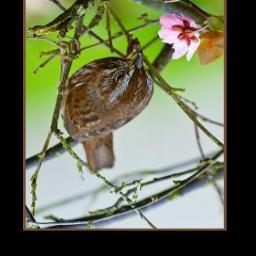Sparrow: (52, 37, 156, 175)
